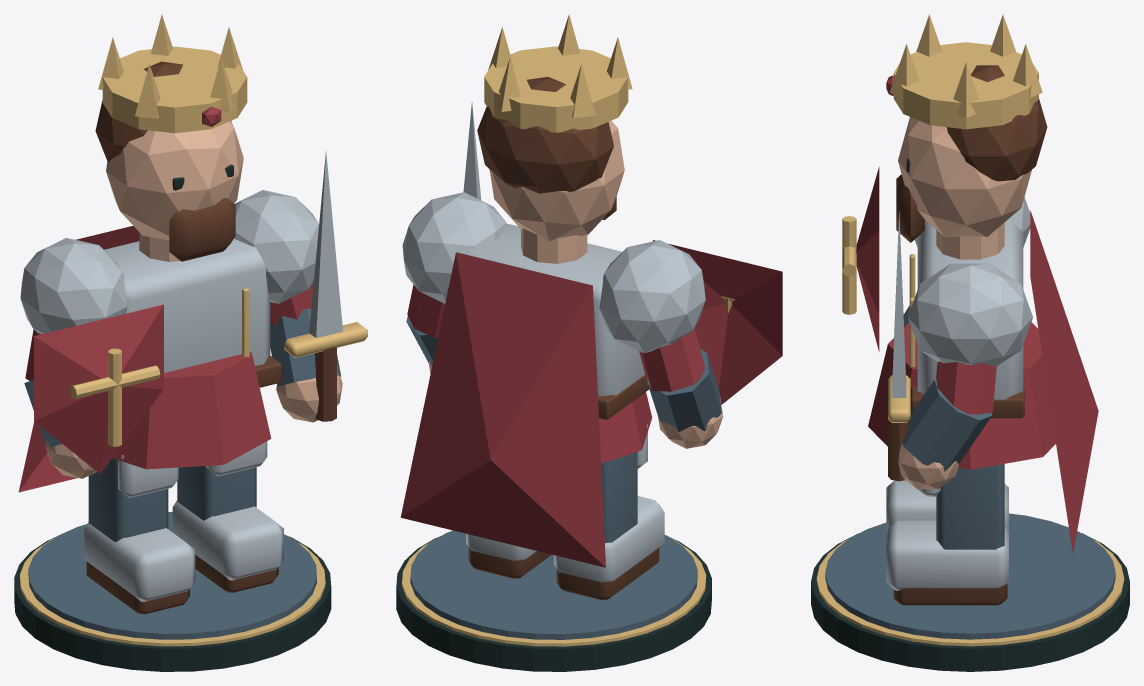
File: arthur.glb
3 renders of one model, left to right at view 1: azimuth 30°, elevation 25°; view 2: azimuth 150°, elevation 25°; view 3: azimuth 270°, elevation 25°, orthographic.
Parts seen in each view (by area): view 1: PedestalTop, Torso, Shield, Coat, Head, Pedestal, CrownBand, LeftShoulder, RightShoulder, ArmoredBoot, ArmoredBoot.001, Leg (+25 smaller); view 2: Cape, PedestalTop, Shield, LeftShoulder, Pedestal, Hair, CrownBand, RightShoulder, Torso, Head, ArmoredBoot, PedestalRim (+15 smaller); view 3: PedestalTop, RightShoulder, Pedestal, Cape, Head, CrownBand, Coat, ArmoredBoot.001, Leg.001, Hair, Torso, RightForearm (+19 smaller).
Part boxes in pixels (x1,y1,x2,y2): PedestalTop: [28, 512, 316, 639]; Torso: [104, 239, 270, 372]; Shield: [34, 304, 163, 473]; Coat: [112, 352, 271, 469]; Head: [106, 121, 243, 240]; Pedestal: [14, 536, 331, 671]; CrownBand: [102, 46, 247, 133]; LeftShoulder: [20, 238, 127, 333]; RightShoulder: [234, 190, 318, 303]; ArmoredBoot: [84, 522, 195, 601]; ArmoredBoot.001: [172, 500, 283, 580]; Leg: [88, 458, 168, 541]; Cape: [400, 252, 605, 567]; PedestalTop: [410, 530, 697, 639]; Shield: [653, 240, 782, 404]; LeftShoulder: [599, 240, 705, 353]; Pedestal: [396, 536, 711, 671]; Hair: [477, 76, 613, 193]; CrownBand: [484, 46, 628, 132]; RightShoulder: [402, 192, 506, 303]; Torso: [468, 223, 644, 396]; Head: [489, 120, 624, 241]; ArmoredBoot: [554, 496, 664, 582]; PedestalRim: [402, 537, 706, 646]; PedestalTop: [825, 513, 1115, 639]; RightShoulder: [908, 263, 1032, 366]; Pedestal: [811, 533, 1129, 671]; Cape: [1030, 210, 1098, 553]; Head: [898, 117, 1031, 236]; CrownBand: [893, 42, 1038, 129]; Coat: [868, 322, 1055, 469]; ArmoredBoot.001: [886, 520, 1008, 590]; Leg.001: [936, 464, 1004, 549]; Hair: [946, 65, 1047, 181]; Torso: [917, 219, 1023, 399]; RightForearm: [902, 379, 991, 471].
Bounding box in the file's own units: 0.18 × 0.2867 × 0.1456.
